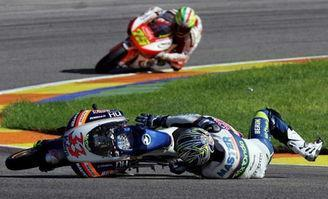Fall-Detected: (85, 0, 209, 77)
